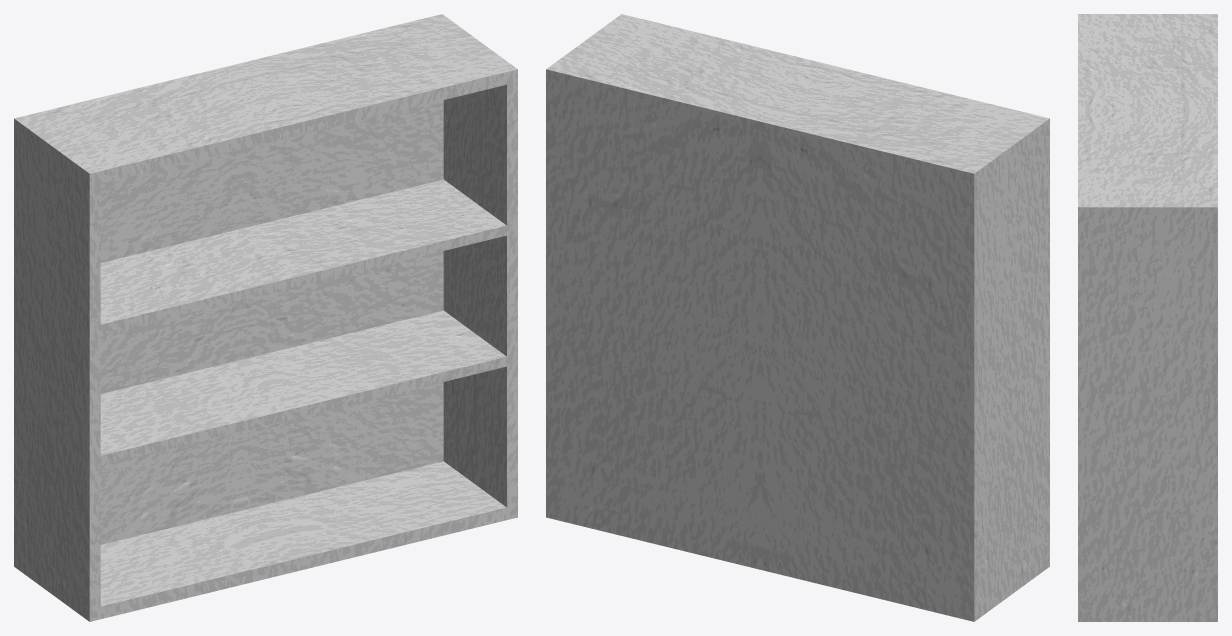
Rendered from BookShelf_1Mx1Mx1ft.fbx.
3 views of the same model, side by side, from view 1: azimuth 30°, elevation 25°; view 2: azimuth 150°, elevation 25°; view 3: azimuth 270°, elevation 25° (orthographic). The views are drawn at different scales.
Visible parts, largest first — view 1: BookShelf.001; view 2: BookShelf.001; view 3: BookShelf.001.
Boxes of the visible parts, x1,y1,x2,y2 form: BookShelf.001: (14,14,517,621); BookShelf.001: (546,14,1049,621); BookShelf.001: (1078,14,1217,621).
Bounding box in the file's own units: 100 × 100 × 30.58.
